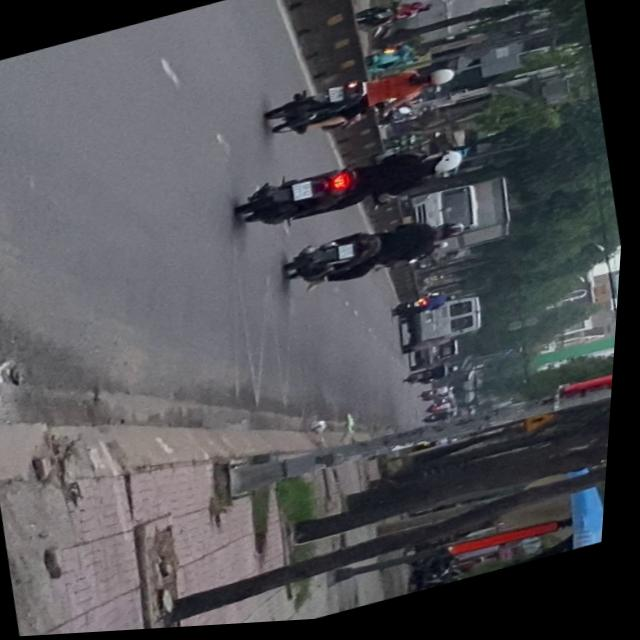helmet: (425, 151, 468, 183)
licenseplate: (233, 132, 476, 242)
nohelmet: (294, 182, 318, 204)
